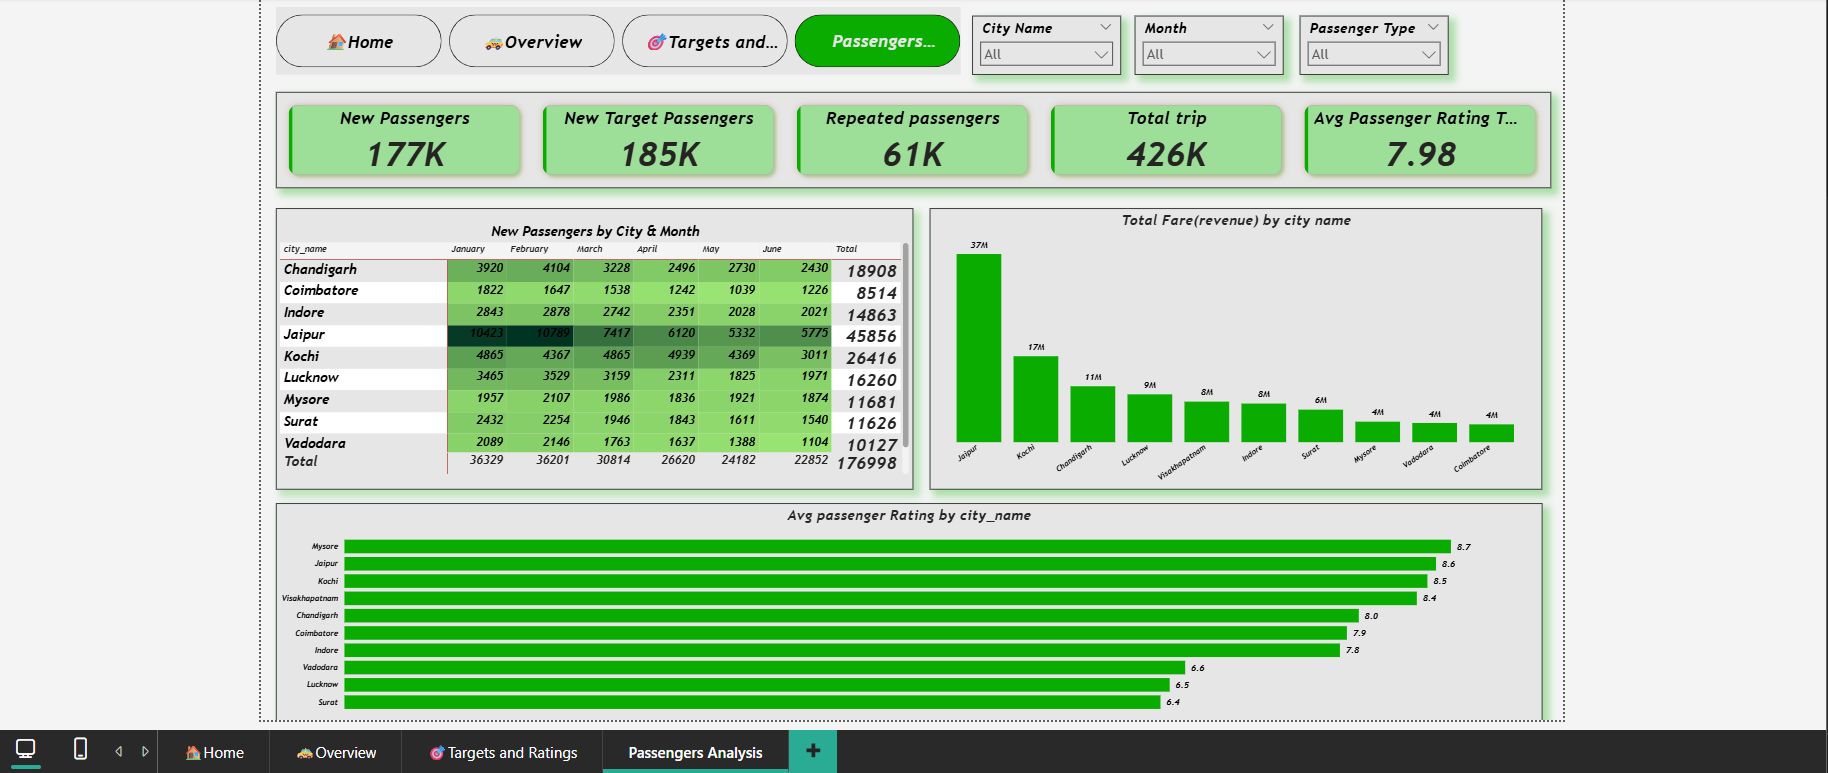

The page's visual inventory and layout, read from the dashboard file:
{"tool":"powerbi","page":{"name":"Passengers Analysis","canvas":[1800,1000],"ordinal":3},"visuals":[{"type":"pageNavigator","box":[20.7,13.8,946.8,93.3],"z":0},{"type":"slicer","fields":{"Values":["dim_city.city_name"]},"box":[983.3,25.9,205.6,81.5],"z":1000},{"type":"slicer","fields":{"Values":["dim_date.month_name"]},"box":[1207.4,25.9,205.6,81.5],"z":2000},{"type":"slicer","fields":{"Values":["fact_trips.passenger_type"]},"box":[1435.2,25.9,205.6,81.5],"z":3000},{"type":"cardVisual","fields":{"Data":["key measure.New Passengers","key measure.New Target Passengers","key measure.Repeated passengers","key measure.Total trip","key measure.Avg Passenger Rating Target"]},"box":[20.7,131.3,1762.3,133],"z":4000},{"type":"pivotTable","title":"New Passengers by City & Month","fields":{"Values":["key measure.New Passengers"],"Rows":["dim_city.city_name"],"Columns":["dim_date.month_name"]},"box":[20.7,292,881.1,388.7],"z":5000},{"type":"columnChart","title":"Total Fare(revenue) by city name","fields":{"Category":["dim_city.city_name"],"Y":["key measure.Total Fare(revenue)"]},"box":[924.3,292,846.6,388.7],"z":6000},{"type":"barChart","fields":{"Category":["dim_city.city_name"],"Y":["key measure.Avg passenger Rating"]},"box":[20.7,699.7,1750.2,300.6],"z":7000}]}

Visuals, with their boxes on the page's 1800x1000 design canvas (x1, y1, x2, y2). These are canvas units, not pixel positions in the 1828x773 screenshot, which may show the page scaled, cropped or inside an application window:
pageNavigator: <region>21, 14, 968, 107</region>
slicer - dim_city.city_name: <region>983, 26, 1189, 107</region>
slicer - dim_date.month_name: <region>1207, 26, 1413, 107</region>
slicer - fact_trips.passenger_type: <region>1435, 26, 1641, 107</region>
cardVisual - key measure.New Passengers x key measure.New Target Passengers: <region>21, 131, 1783, 264</region>
"New Passengers by City & Month" pivotTable: <region>21, 292, 902, 681</region>
"Total Fare(revenue) by city name" columnChart: <region>924, 292, 1771, 681</region>
barChart - dim_city.city_name x key measure.Avg passenger Rating: <region>21, 700, 1771, 1000</region>
